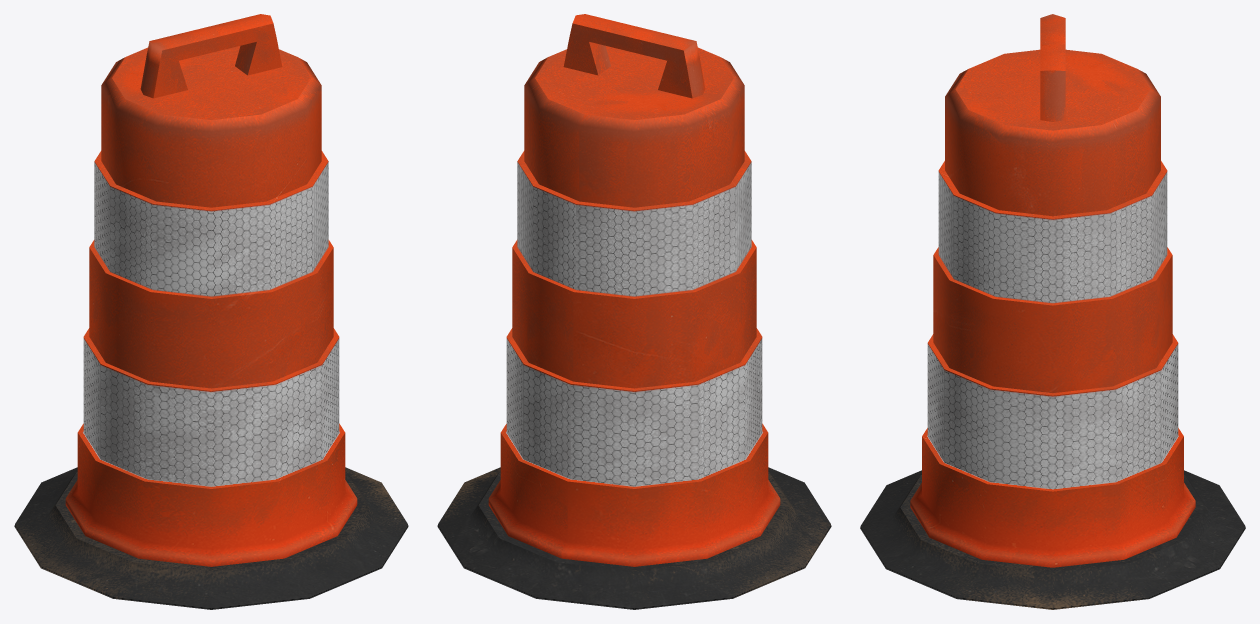
The model's file is Obatacle_01.fbx.
3 views of the same model, side by side, from view 1: azimuth 30°, elevation 25°; view 2: azimuth 150°, elevation 25°; view 3: azimuth 270°, elevation 25° (orthographic). The views are drawn at different scales.
Visible parts, largest first — view 1: Obatacle_01; view 2: Obatacle_01; view 3: Obatacle_01.
Boxes of the visible parts, box(x1,y1,x2,y2) form: Obatacle_01: box(14, 14, 408, 609); Obatacle_01: box(437, 14, 831, 609); Obatacle_01: box(860, 14, 1245, 609).
Bounding box in the file's own units: 0.0685 × 0.0953 × 0.0685.
1 material, 1 textured.
